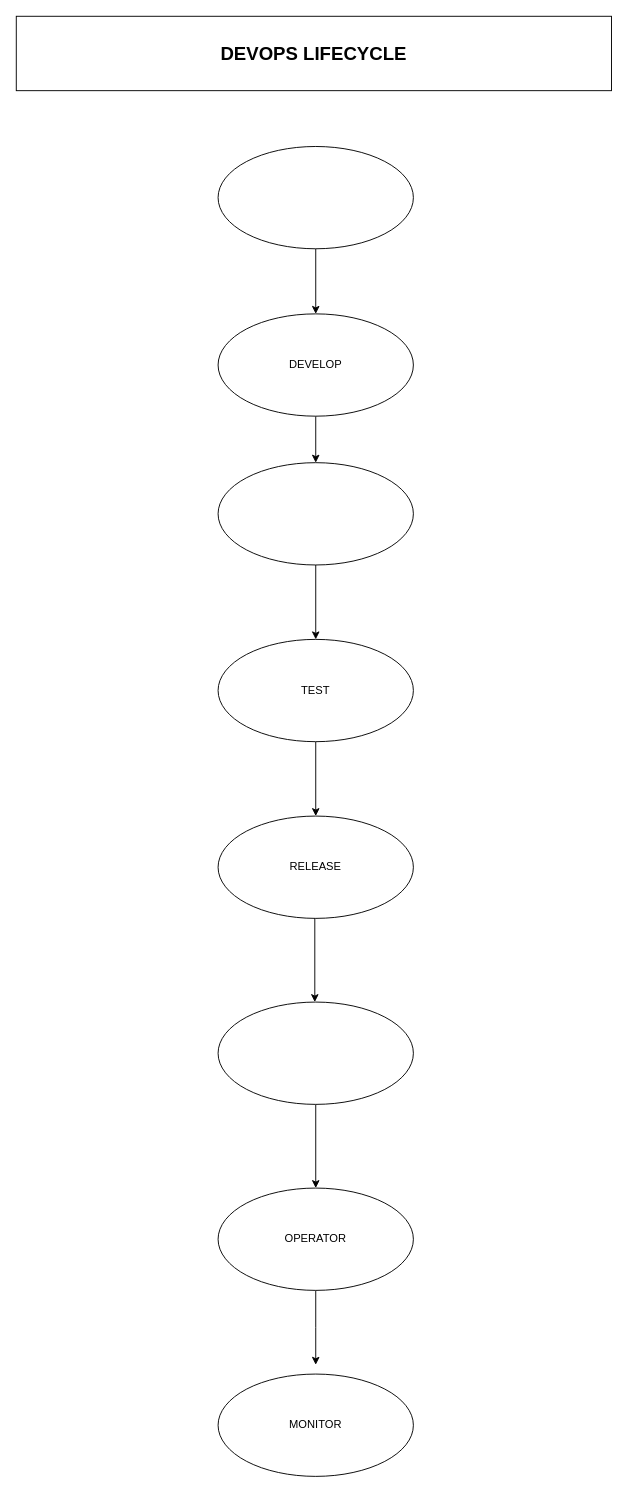
Some shapes in this 628 by 1493 pixel diagram are drawn without their labels. The centre of each missing label's shape, as x and y in pixels:
"BUILD" goes at (x=315, y=513).
"DEPLOY" goes at (x=315, y=1052).
"PLAN" goes at (x=315, y=197).
